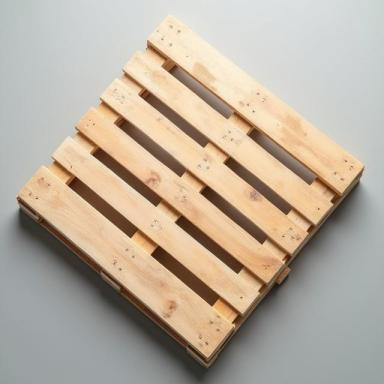pallet: (16, 14, 365, 369)
